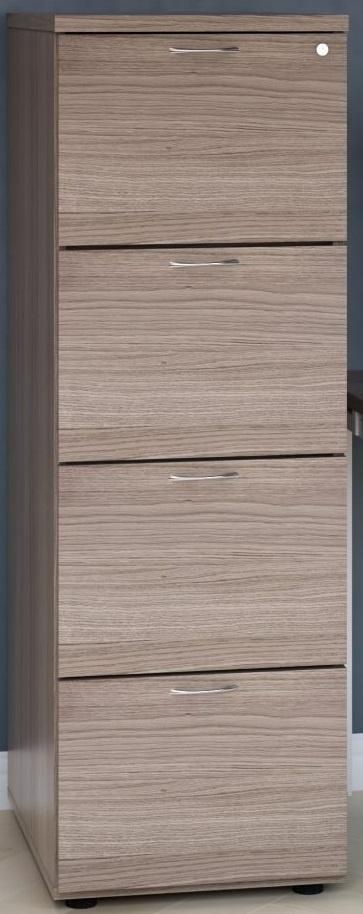cabinet_door: (65, 675, 347, 901), (63, 462, 347, 679), (64, 249, 349, 464), (66, 26, 346, 239)
handle: (161, 466, 246, 494), (159, 254, 249, 279), (160, 681, 247, 706), (157, 39, 247, 63)
